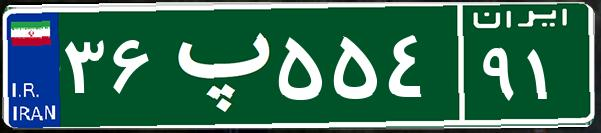1: (525, 38, 570, 115)
3: (57, 26, 110, 107)
4: (385, 28, 445, 110)
5: (273, 28, 330, 110), (330, 28, 385, 110)
6: (110, 28, 158, 105)
9: (475, 38, 525, 113)
پ: (158, 15, 273, 115)
